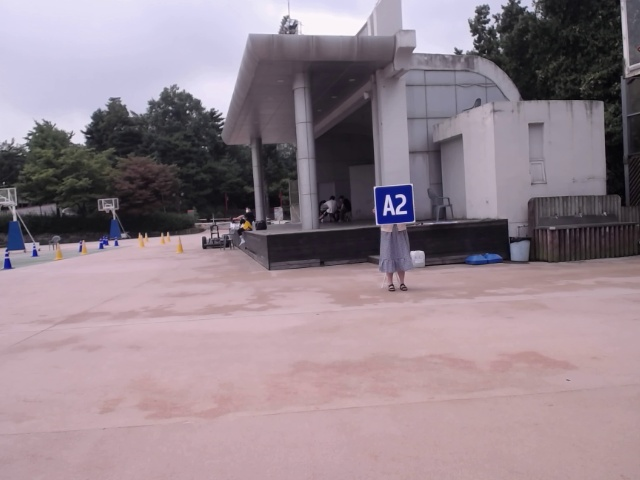delivery_a2: (375, 183, 415, 225)
